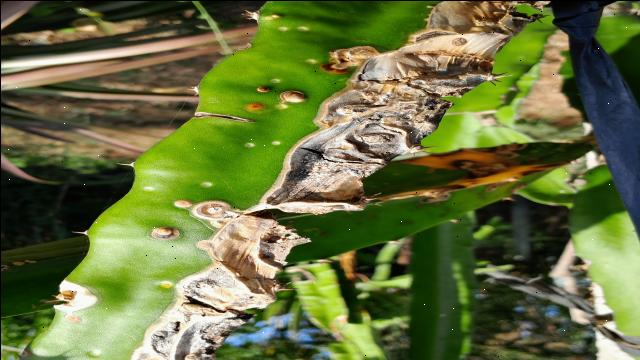stemcanker: (321, 45, 384, 73), (195, 196, 235, 223), (147, 225, 184, 243), (278, 86, 310, 106), (253, 81, 278, 97), (244, 100, 266, 114)
